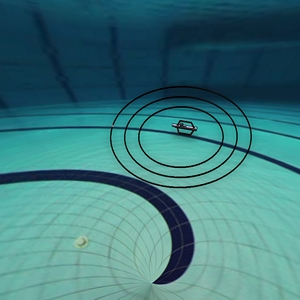submarine: (169, 116, 204, 141)
